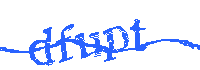d: (27, 26, 56, 67)
f: (56, 23, 73, 63)
p: (102, 25, 130, 63)
t: (129, 17, 149, 54)
u: (74, 32, 104, 59)
